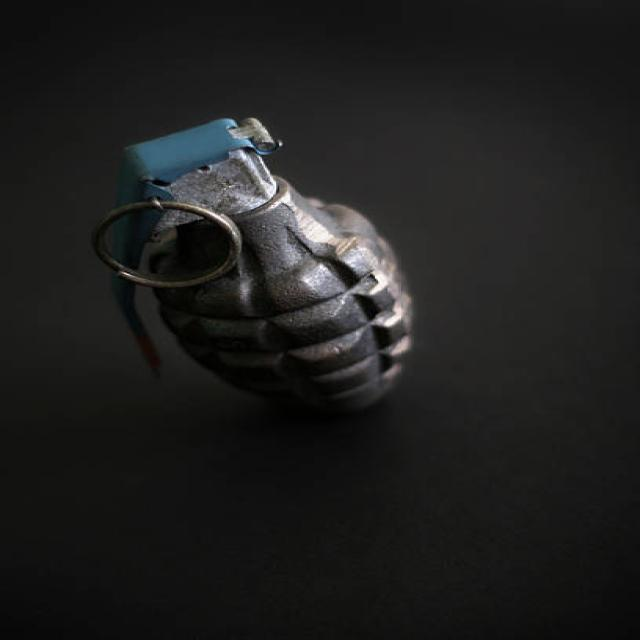grenade: (88, 110, 432, 418)
